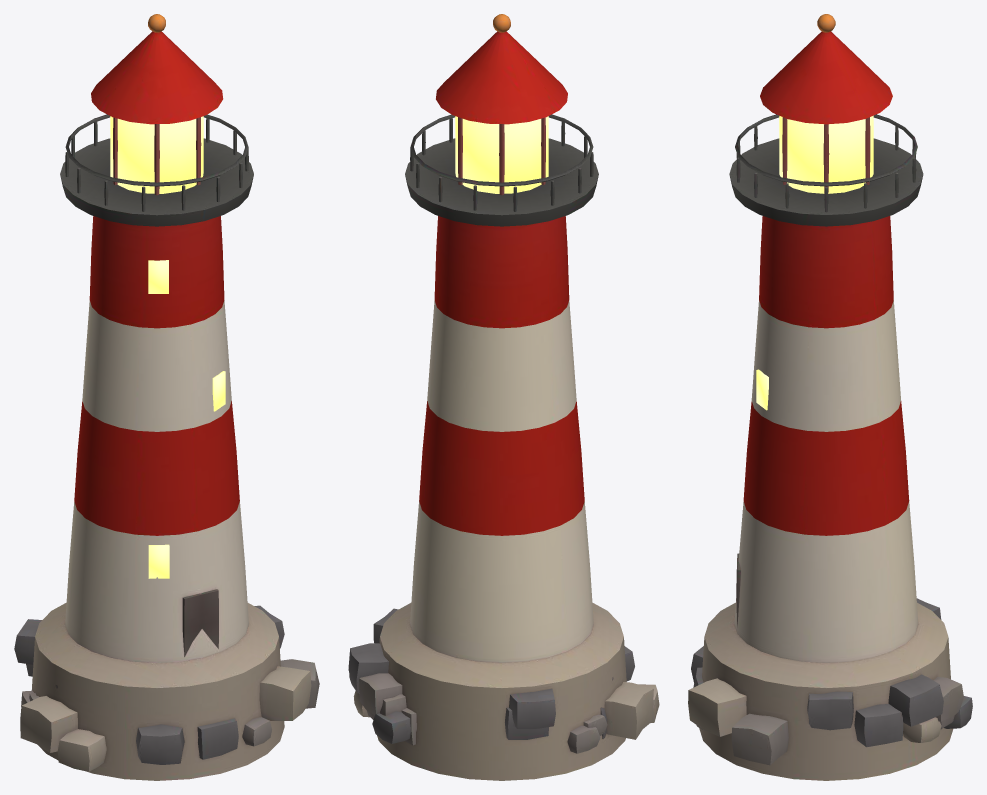
Rendered from lighthouse.glb.
3 renders of one model, left to right at view 1: azimuth 30°, elevation 25°; view 2: azimuth 150°, elevation 25°; view 3: azimuth 270°, elevation 25°, orthographic.
Parts seen in each view (by area): view 1: main, glow; view 2: main, glow; view 3: main, glow.
Part boxes in pixels (left/top/right/bottom): main: left=14, top=14, right=319, bottom=780; glow: left=110, top=116, right=225, bottom=578; main: left=348, top=14, right=659, bottom=780; glow: left=455, top=116, right=548, bottom=193; main: left=688, top=14, right=972, bottom=780; glow: left=756, top=115, right=873, bottom=410.
Bounding box in the file's own units: 11.08 × 28.34 × 10.27.
Materials: 2 (1 with a texture image).
